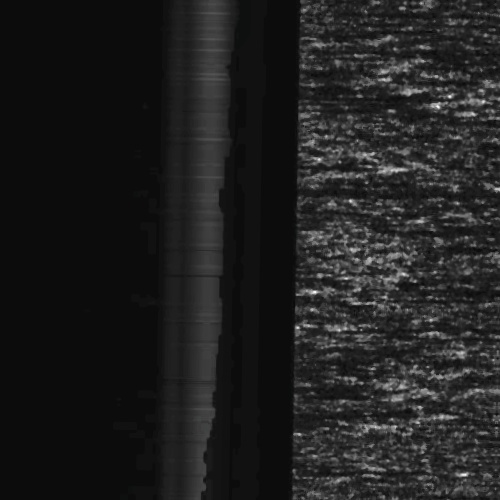object: (418, 406, 471, 413)
shadow: (317, 177, 500, 196), (483, 244, 500, 289), (432, 327, 500, 338), (355, 406, 445, 413)
